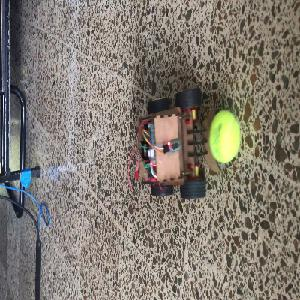Ball: (209, 110, 241, 163)
Robot: (137, 88, 208, 199)
